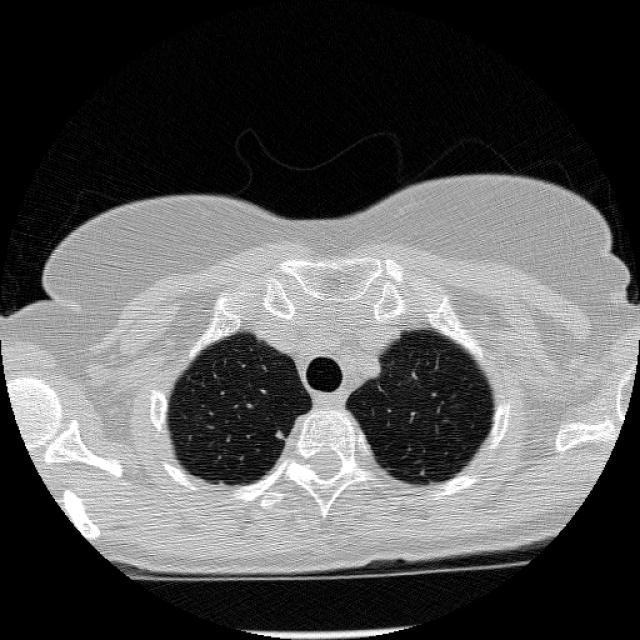nodule: (266, 423, 289, 445)
